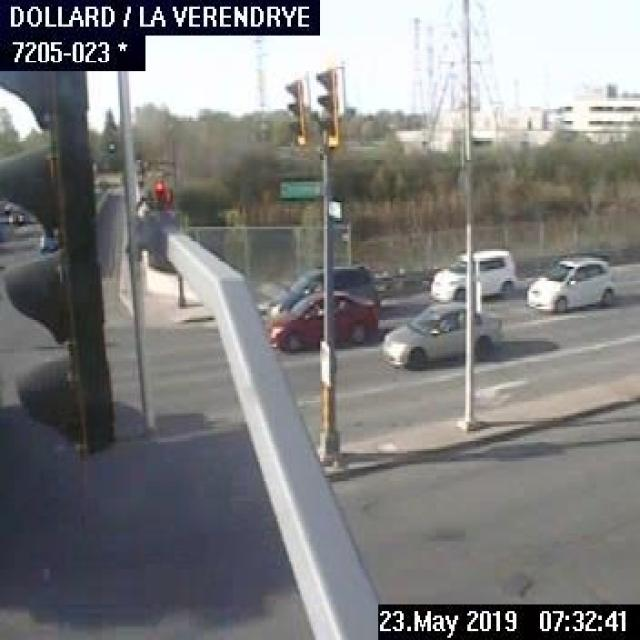vehicle: (381, 298, 495, 371), (254, 263, 379, 327), (267, 292, 379, 354), (525, 250, 611, 314), (428, 244, 514, 298), (0, 200, 25, 226), (38, 231, 56, 249)
